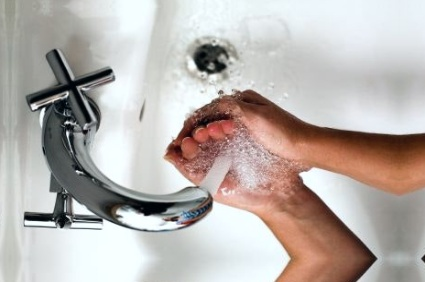washing hand: (47, 27, 344, 240)
